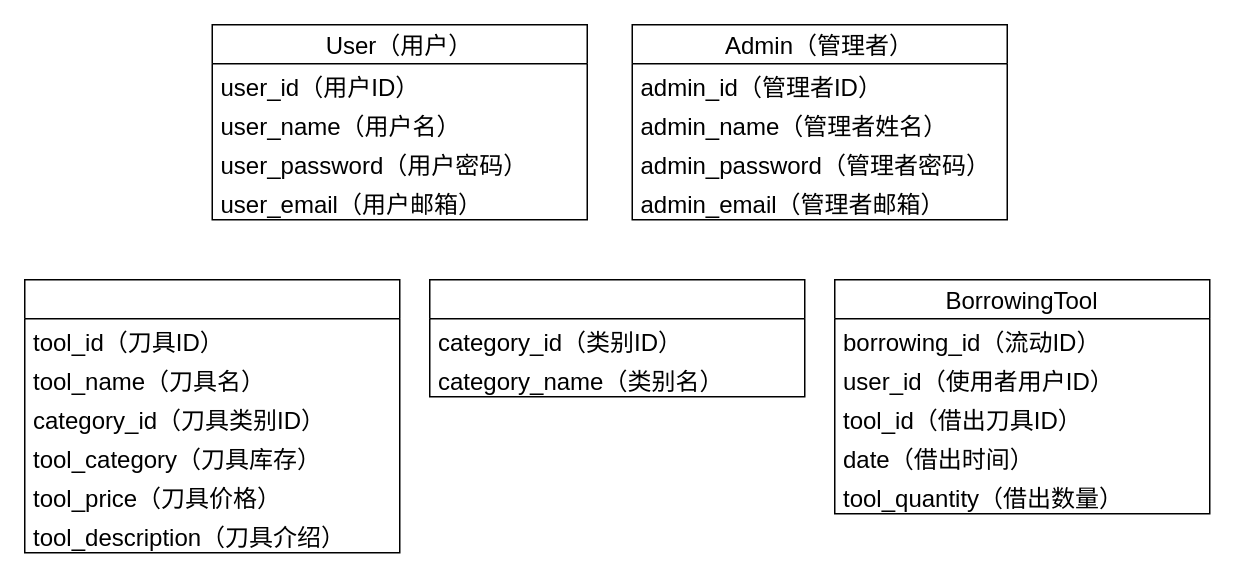
Some shapes in this 1235 by 578 pixel diagram are drawn without their labels. Each missing label, with the box of its shape:
ToolCategory（刀具类别）: (428, 278, 805, 397)
Tool（刀具）: (23, 278, 400, 553)
